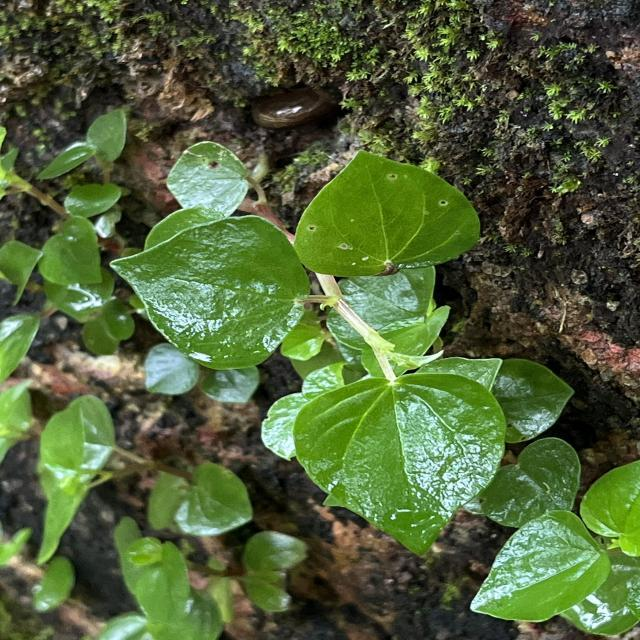Peperomia pellucida: (291, 370, 509, 560), (107, 214, 314, 372), (292, 149, 483, 278)
